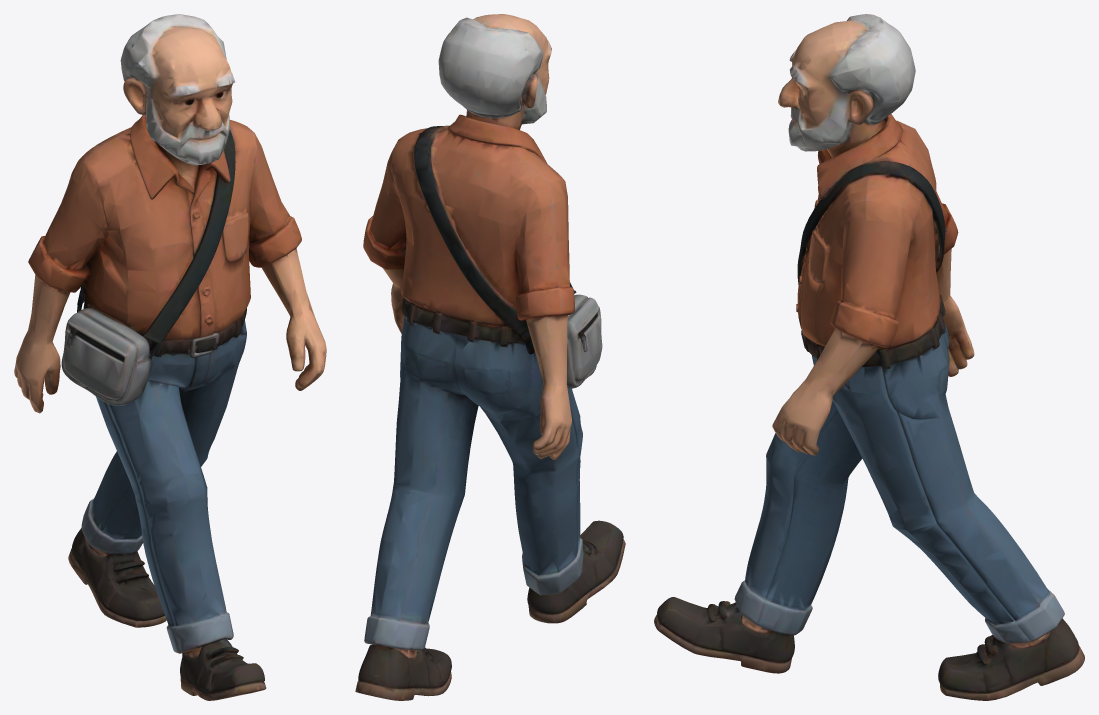
Rendered from 50to70_Male.glb.
3 renders of one model, left to right at view 1: azimuth 30°, elevation 25°; view 2: azimuth 150°, elevation 25°; view 3: azimuth 270°, elevation 25°, orthographic. The views are drawn at different scales.
Visible parts, largest first — view 1: node_0; view 2: node_0; view 3: node_0.
Part boxes in pixels (x1,y1,x2,y2): node_0: (14, 14, 326, 700); node_0: (355, 14, 625, 700); node_0: (654, 14, 1084, 700).
Bounding box in the file's own units: 0.4369 × 1.1 × 0.6548.
1 material, 1 textured.
